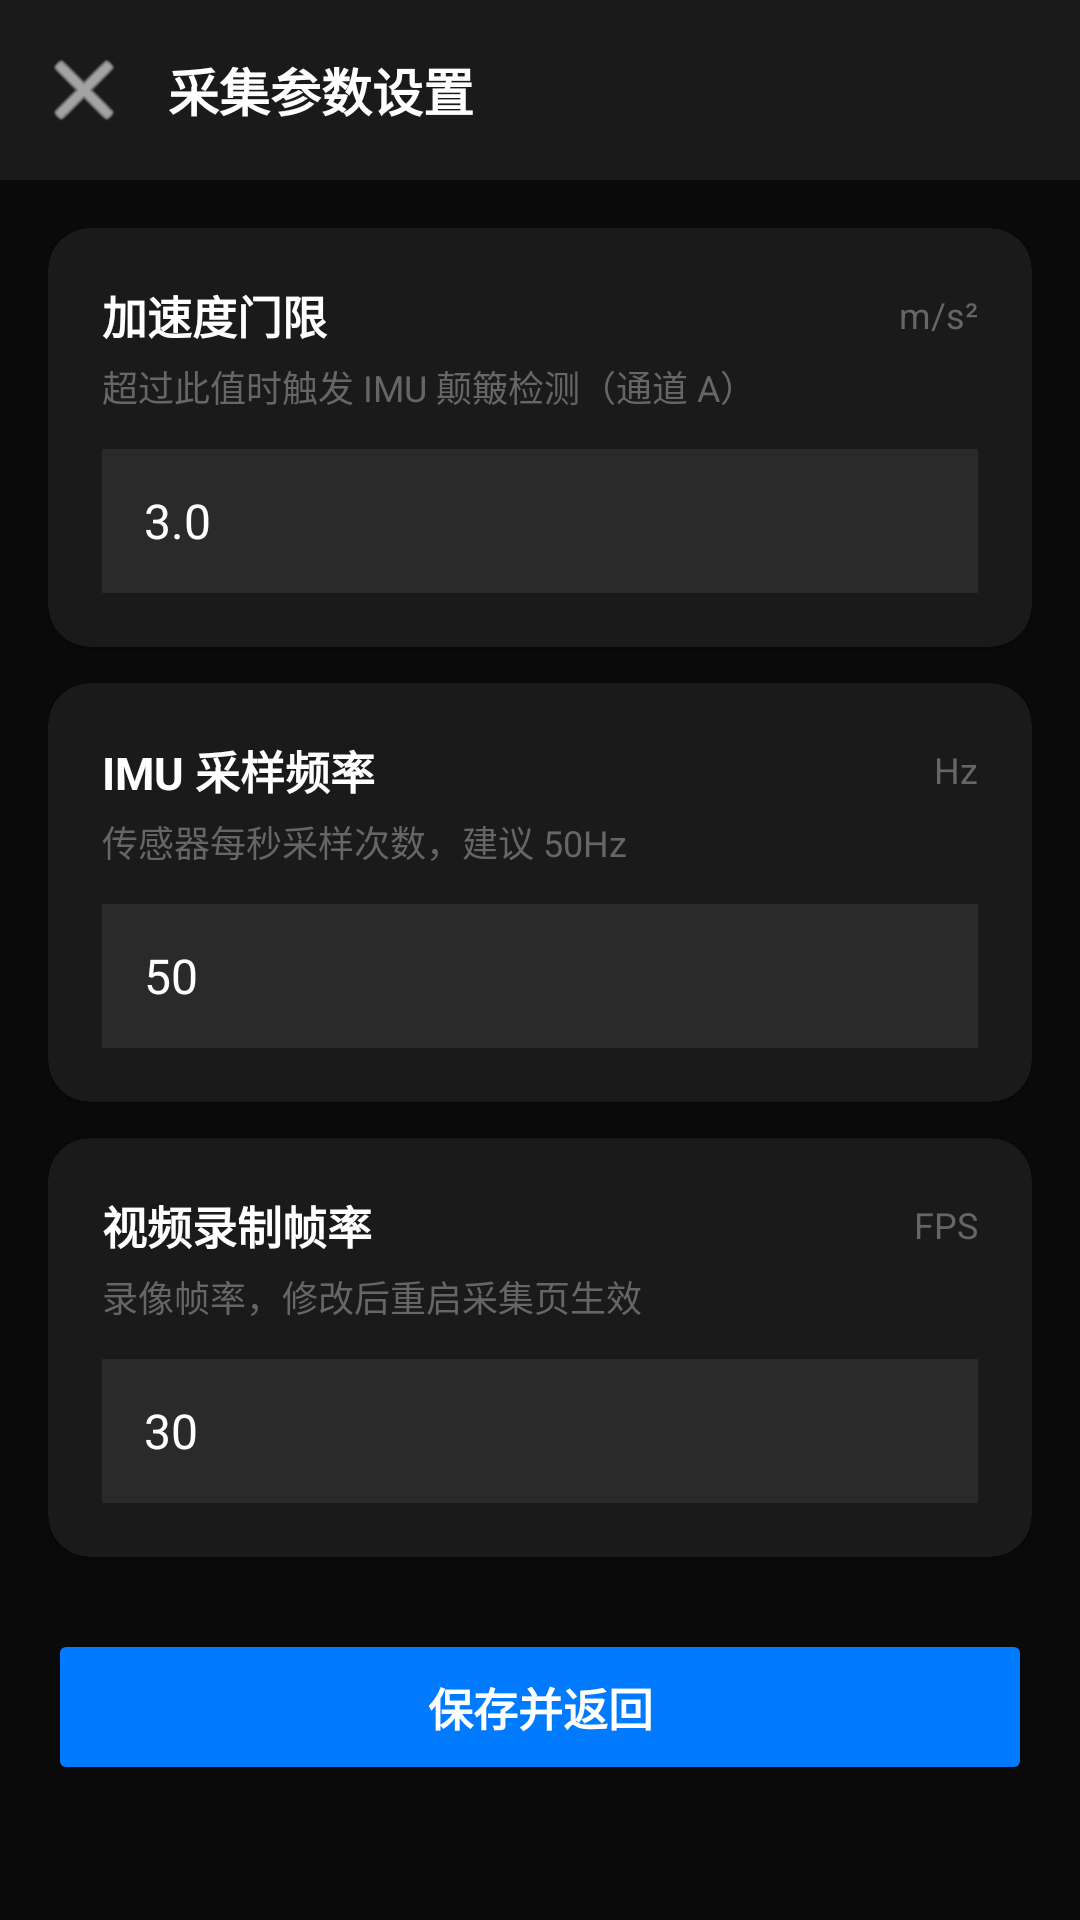

Where icons sit on this 1080*1920 app screen, as (x1, y1, x2, y2):
返回: (54, 60, 114, 120)
